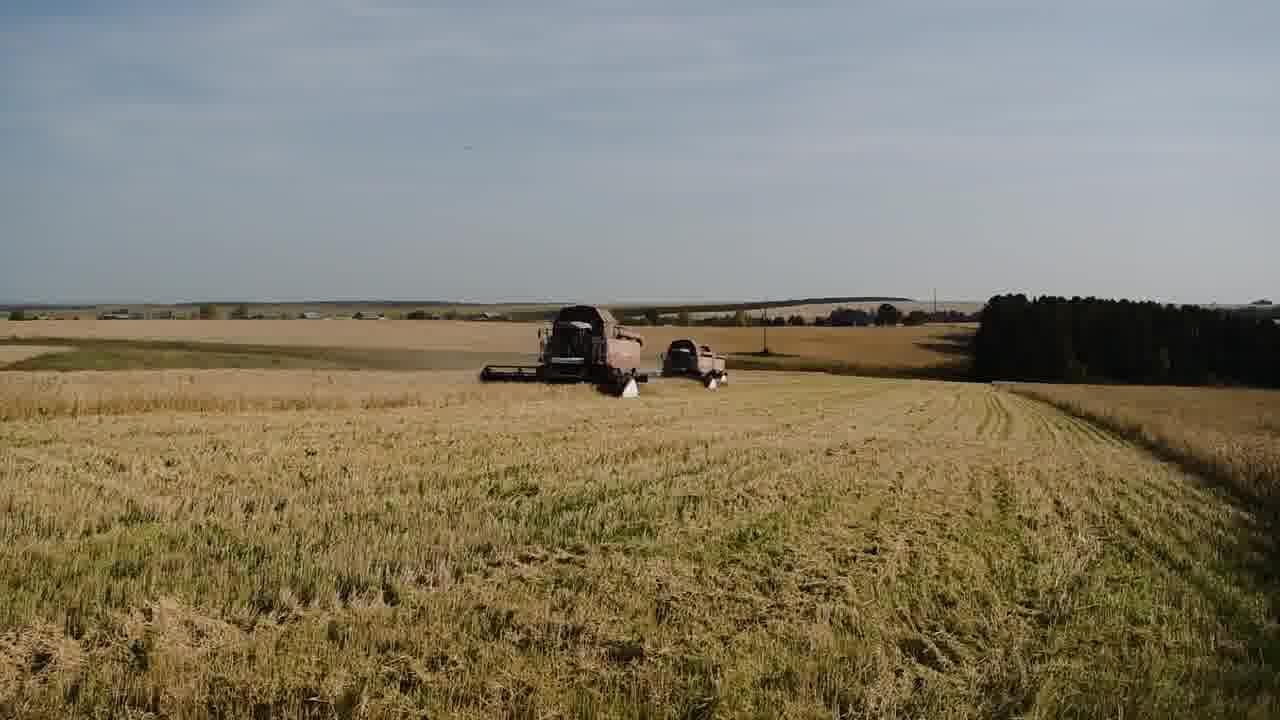combine harvester: (473, 301, 653, 402), (655, 332, 729, 395)
